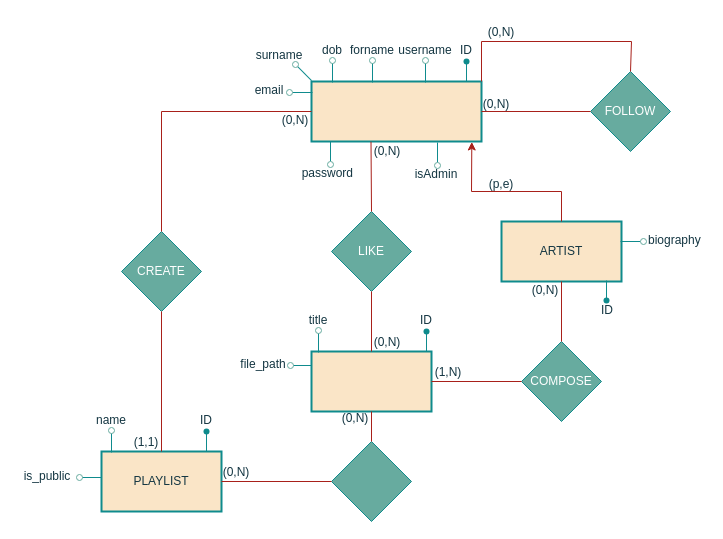
Image size: 723x539. Some labels were removed from this diagram. Each missing label, with the box of its shape:
INCLUDE: (330, 440, 412, 522)
SONG: (310, 350, 432, 412)
USER: (310, 80, 482, 142)
